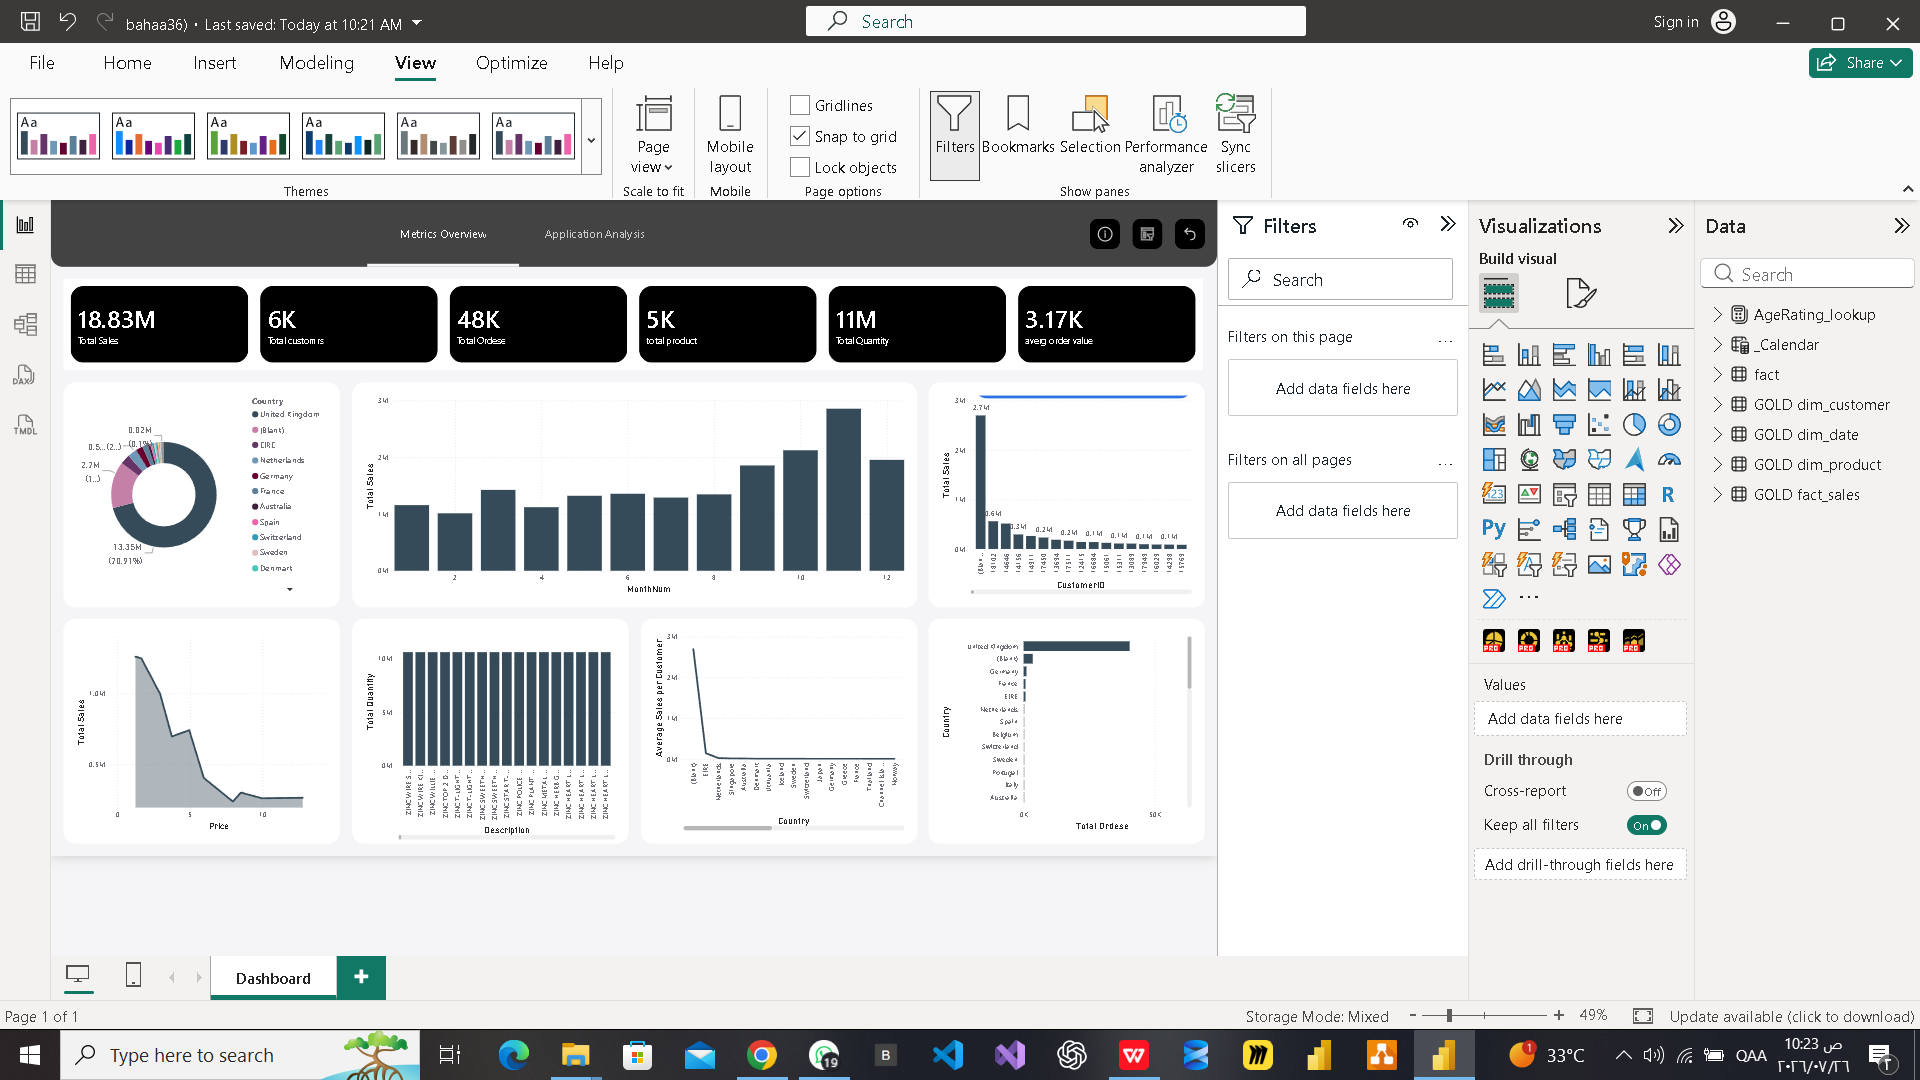

Layout of this report page (visuals, bound fields, positions):
{"tool":"powerbi","page":{"name":"Dashboard","canvas":[1920,1080],"ordinal":0},"visuals":[{"type":"cardVisual","title":"Cards","fields":{"Data":["AgeRating_lookup.Total Sales","AgeRating_lookup.Total customrs","AgeRating_lookup.Total Ordese","AgeRating_lookup.total product","AgeRating_lookup.Total Quantity","AgeRating_lookup.averg order value"]},"box":[20,130,1880,150],"z":0},{"type":"donutChart","title":"Apps distribution by Price Ranges","fields":{"Y":["AgeRating_lookup.Total Sales"],"Category":["GOLD dim_customer.Country"]},"box":[20,300,455,370],"z":0,"group":"g1"},{"type":"group","id":"g1","title":"Total Apps Visuals","box":[20,300,1880,760],"z":1000},{"type":"lineChart","title":"App Total by Genre, Drill to App Size","fields":{"Category":["GOLD dim_customer.Country"],"Y":["AgeRating_lookup.Average Sales per Customer"]},"box":[970,690,455,370],"z":1000,"group":"g1"},{"type":"stackedAreaChart","title":"Review Tally: Total Apps and Their Review Counts","fields":{"Category":["GOLD fact_sales.Price","GOLD dim_product.Description"],"Y":["AgeRating_lookup.Total Sales"]},"box":[20,690,455,370],"z":2000,"group":"g1"},{"type":"clusteredColumnChart","title":"Apps Created by Developers","fields":{"Category":["GOLD dim_customer.CustomerID"],"Y":["AgeRating_lookup.Total Sales"]},"box":[1445,300,455,370.1],"z":3000,"group":"g1"},{"type":"clusteredColumnChart","title":"Tracking Apps Released: Yearly and Monthly Trend","fields":{"Category":["GOLD dim_date.MonthNum"],"Y":["AgeRating_lookup.Total Sales"]},"box":[495,300,930,370],"z":4000,"group":"g1"},{"type":"clusteredBarChart","title":"Total Apps and Language Breakdown","fields":{"Y":["AgeRating_lookup.Total Ordese"],"Category":["GOLD dim_customer.Country"]},"box":[1445,690,455,370],"z":5000,"group":"g1"},{"type":"bookmarkNavigator","box":[0,176.8,1882.2,150],"z":6000},{"type":"columnChart","title":"Rating Rundown: Total Apps by Average Score","fields":{"Category":["GOLD dim_product.Description"],"Y":["AgeRating_lookup.Total Quantity"]},"box":[495,690,455,370],"z":6000,"group":"g1"},{"type":"bookmarkNavigator","box":[520.5,0,500.1,110],"z":11000},{"type":"actionButton","title":"filter_button","box":[1780,30,50,50],"z":12000},{"type":"actionButton","title":"reset_button","box":[1850,30,50,50],"z":13000},{"type":"actionButton","title":"info_button","box":[1710,30,50,50],"z":14000}]}

Visuals, with their boxes on the page's 1920x1080 design canvas (x1, y1, x2, y2). These are canvas units, not pixel positions in the 1920x1080 screenshot, which may show the page scaled, cropped or inside an application window:
"Cards" cardVisual: BBox(20, 130, 1900, 280)
"Apps distribution by Price Ranges" donutChart: BBox(20, 300, 475, 670)
"Total Apps Visuals" group: BBox(20, 300, 1900, 1060)
"App Total by Genre, Drill to App Size" lineChart: BBox(970, 690, 1425, 1060)
"Review Tally: Total Apps and Their Review Counts" stackedAreaChart: BBox(20, 690, 475, 1060)
"Apps Created by Developers" clusteredColumnChart: BBox(1445, 300, 1900, 670)
"Tracking Apps Released: Yearly and Monthly Trend" clusteredColumnChart: BBox(495, 300, 1425, 670)
"Total Apps and Language Breakdown" clusteredBarChart: BBox(1445, 690, 1900, 1060)
bookmarkNavigator: BBox(0, 177, 1882, 327)
"Rating Rundown: Total Apps by Average Score" columnChart: BBox(495, 690, 950, 1060)
bookmarkNavigator: BBox(520, 0, 1021, 110)
"filter_button" actionButton: BBox(1780, 30, 1830, 80)
"reset_button" actionButton: BBox(1850, 30, 1900, 80)
"info_button" actionButton: BBox(1710, 30, 1760, 80)
